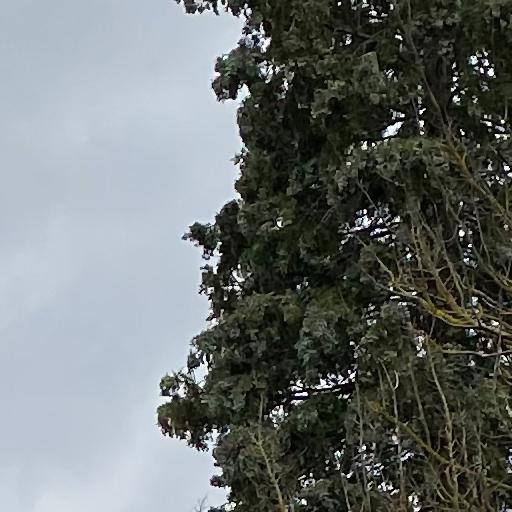tree: (154, 1, 511, 512)
